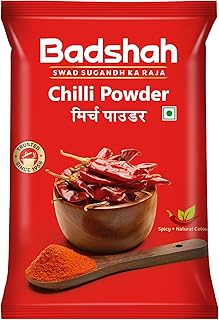Chilli Powder: (1, 1, 219, 318)
